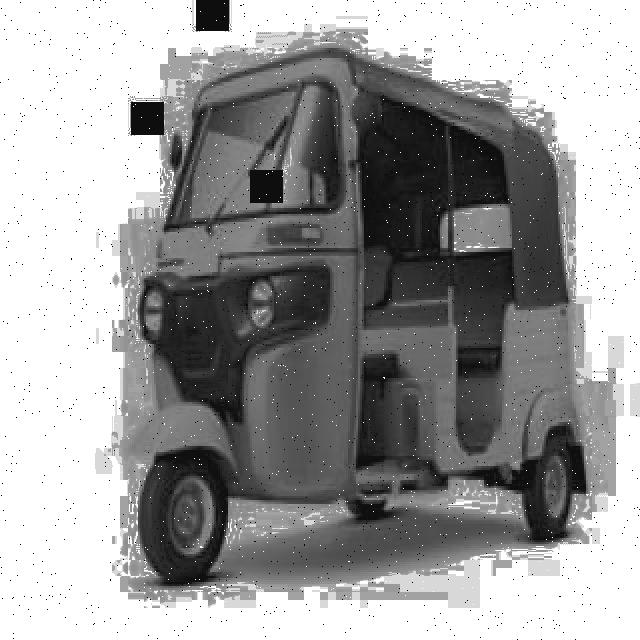Auto-Rickshaw: (138, 40, 598, 600)
